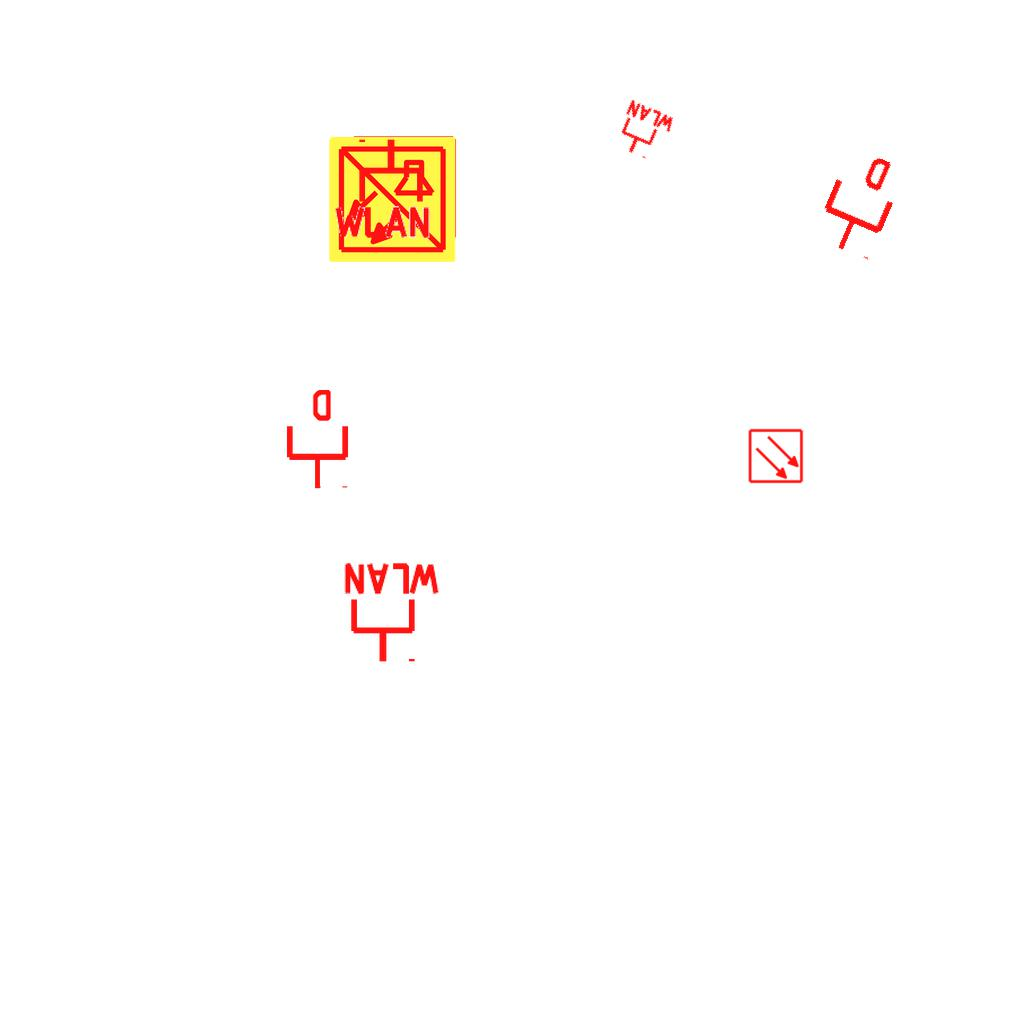Datenanschluss_einfach: (808, 144, 911, 264), (283, 390, 352, 490)
OKW_Multisensormelder_(Kombination_optischer_Rauch-Kahlenmonoxid_Waerme-Melder): (326, 133, 458, 265)
RMO_Rauchmelder_optischer: (748, 428, 804, 484)
WLAN: (340, 561, 444, 666), (330, 135, 434, 240), (609, 97, 679, 167)
